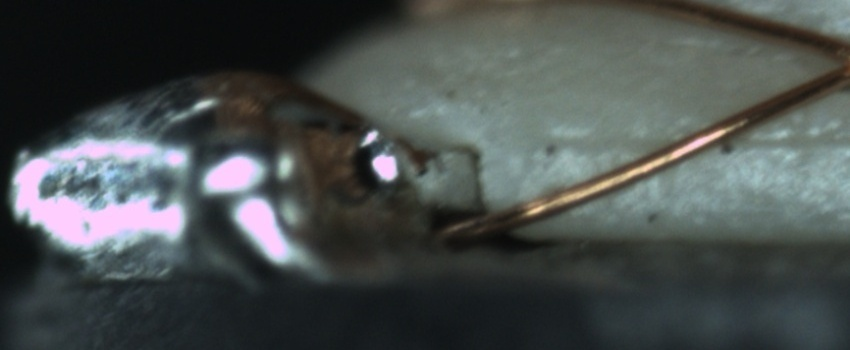DL: (532, 113, 850, 171)
